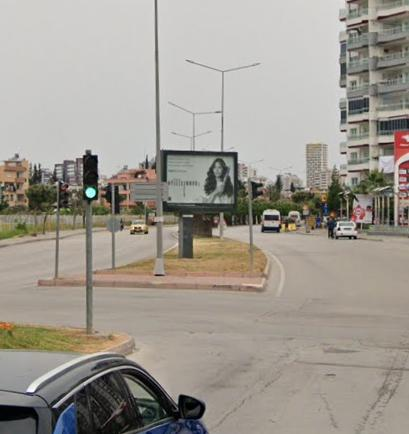greenlight: (82, 155, 99, 202)
